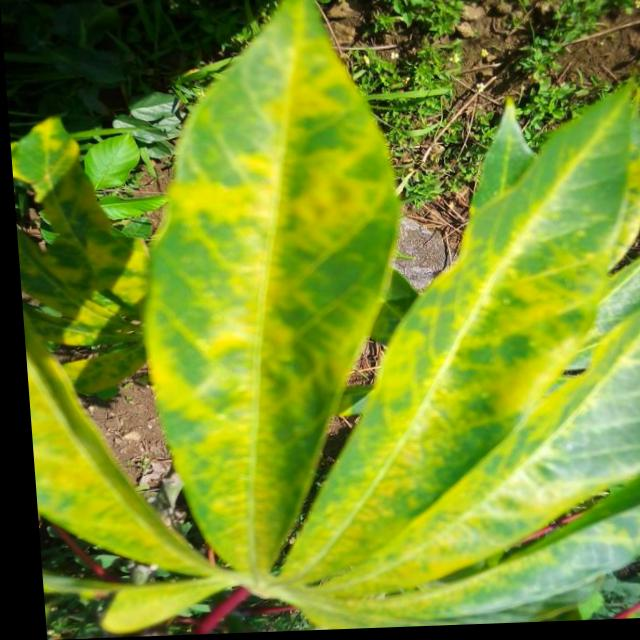Mosaico: (61, 38, 640, 612), (0, 70, 160, 415)
